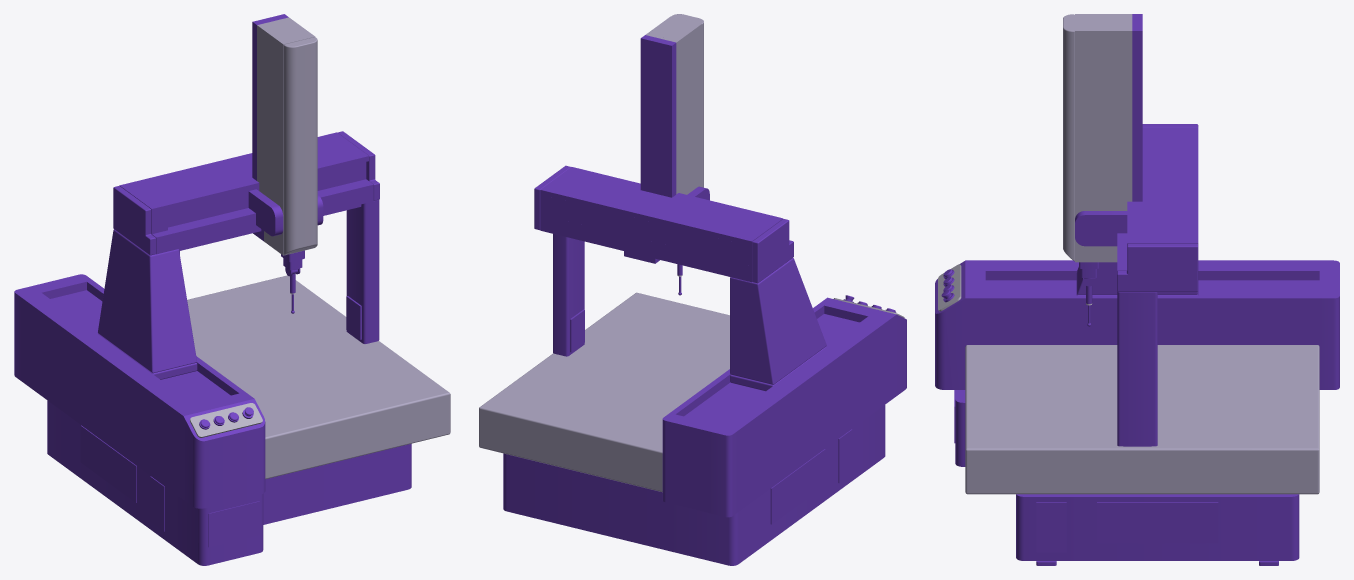
The model's file is cmm.glb.
3 renders of one model, left to right at view 1: azimuth 30°, elevation 25°; view 2: azimuth 150°, elevation 25°; view 3: azimuth 270°, elevation 25°, orthographic. The views are drawn at different scales.
Visible parts, largest first — view 1: Cube.005, Cube.026, Cube.001, Cube.031, Cube.041, Cube.006, Cube.033, Cube.040, Cube.028, Cube.032, Cube.007, Cube.037 (+12 smaller); view 2: Cube.005, Cube.026, Cube.001, Cube.031, Cube.033, Cube.043, Cube.037, Cube.040, Cube.032, Cube.028, Cube.007, Cube.045 (+6 smaller); view 3: Cube.005, Cube.026, Cube.001, Cube.040, Cube.033, Cube.028, Cube.017, Cube.034, Cube.007, Cube.041, Cube.006, Cube.042 (+7 smaller).
Boxes of the visible parts, x1,y1,x2,y2 form: Cube.005: [187, 275, 450, 479]; Cube.026: [14, 274, 254, 499]; Cube.001: [47, 400, 411, 565]; Cube.031: [98, 229, 196, 373]; Cube.041: [283, 37, 317, 255]; Cube.006: [183, 399, 265, 508]; Cube.033: [136, 132, 368, 209]; Cube.040: [264, 22, 315, 255]; Cube.028: [346, 200, 379, 343]; Cube.032: [152, 179, 373, 254]; Cube.007: [50, 290, 230, 404]; Cube.037: [168, 162, 366, 227]; Cube.005: [479, 292, 729, 492]; Cube.026: [662, 297, 896, 517]; Cube.001: [503, 405, 885, 565]; Cube.031: [730, 258, 826, 384]; Cube.033: [540, 167, 767, 242]; Cube.043: [640, 35, 676, 197]; Cube.037: [540, 195, 736, 261]; Cube.040: [652, 16, 701, 194]; Cube.032: [540, 214, 752, 282]; Cube.028: [553, 234, 584, 356]; Cube.007: [684, 314, 859, 424]; Cube.045: [770, 449, 825, 524]; Cube.005: [965, 345, 1319, 494]; Cube.026: [965, 260, 1339, 389]; Cube.001: [955, 390, 1299, 560]; Cube.040: [1075, 14, 1117, 262]; Cube.033: [1127, 135, 1198, 243]; Cube.028: [1117, 292, 1157, 446]; Cube.017: [1097, 502, 1218, 543]; Cube.034: [1117, 243, 1198, 291]; Cube.007: [985, 280, 1319, 295]; Cube.041: [1063, 14, 1074, 261]; Cube.006: [935, 261, 965, 389]; Cube.042: [1117, 14, 1127, 210].
Bounding box in the file's own units: 1.67 × 2.73 × 2.
